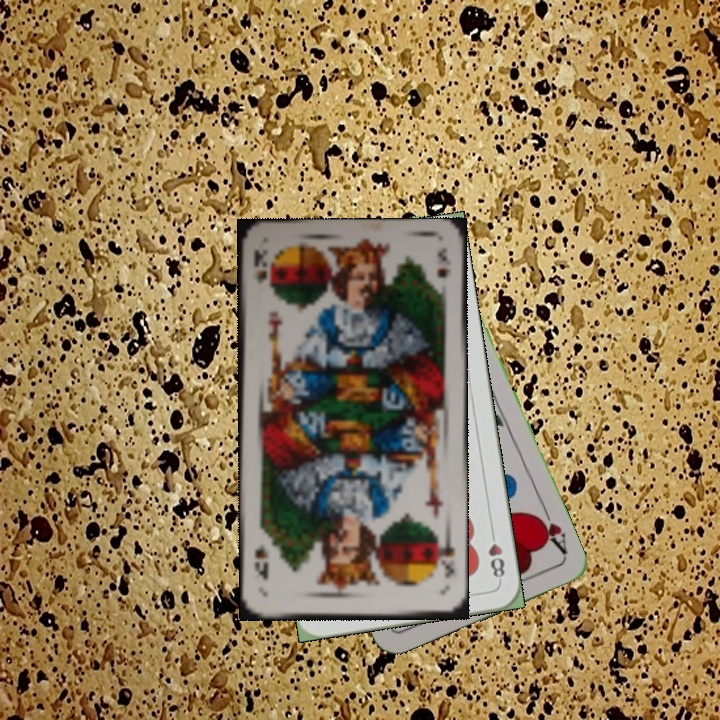H8: (484, 525, 507, 584)
HA: (531, 502, 570, 557)
SK: (432, 533, 457, 580), (249, 246, 271, 285)
